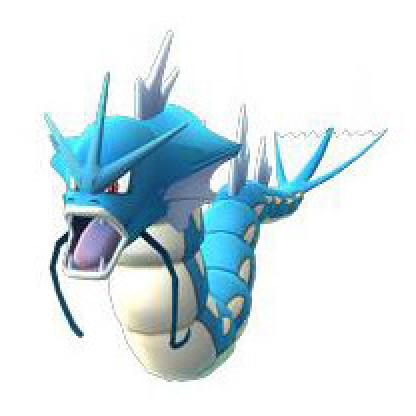Gyarados: (21, 38, 378, 378)
